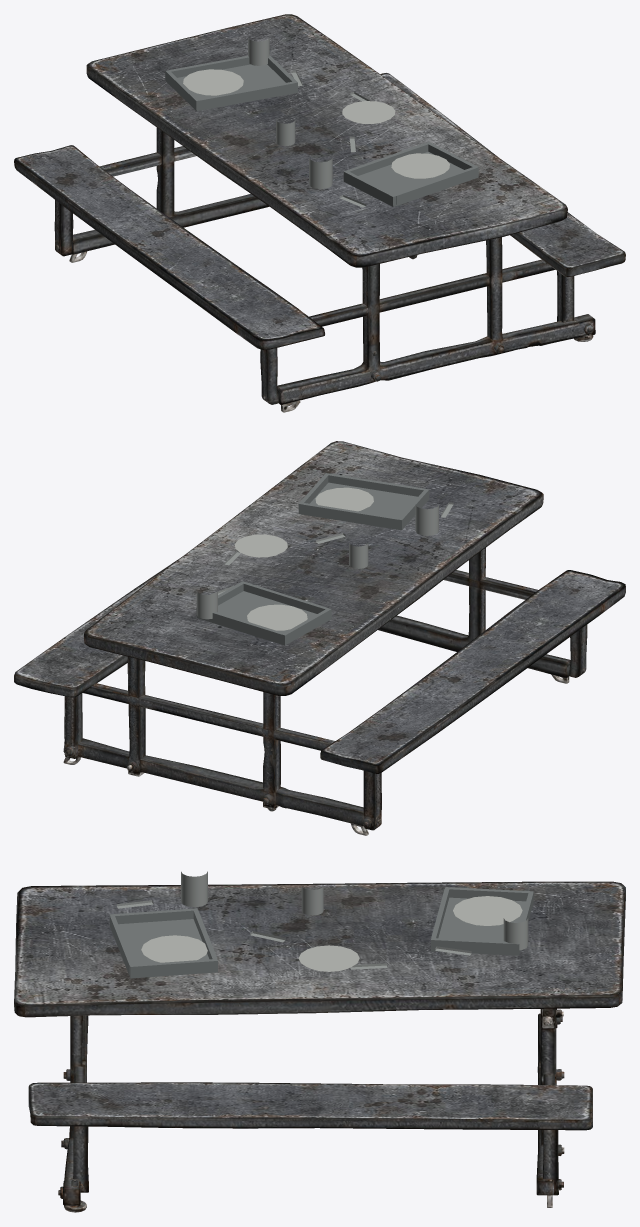
The model's file is Cafeteria Table - Bunker Messy Trays and Cups.glb.
3 views of the same model, one above another, from view 1: azimuth 30°, elevation 25°; view 2: azimuth 150°, elevation 25°; view 3: azimuth 270°, elevation 25° (orthographic). The views are drawn at different scales.
Visible parts, largest first — view 1: tripo_node_c90150de-4281-4c37-b81a-581b04025a6d, Tabletop Trays Plates Cups; view 2: tripo_node_c90150de-4281-4c37-b81a-581b04025a6d, Tabletop Trays Plates Cups; view 3: tripo_node_c90150de-4281-4c37-b81a-581b04025a6d, Tabletop Trays Plates Cups.
Part boxes in pixels (box(x1,y1,x2,y2)): tripo_node_c90150de-4281-4c37-b81a-581b04025a6d: box(14, 14, 625, 412); Tabletop Trays Plates Cups: box(165, 37, 478, 207); tripo_node_c90150de-4281-4c37-b81a-581b04025a6d: box(14, 441, 625, 835); Tabletop Trays Plates Cups: box(196, 473, 453, 645); tripo_node_c90150de-4281-4c37-b81a-581b04025a6d: box(14, 881, 625, 1212); Tabletop Trays Plates Cups: box(109, 871, 533, 978).
Bounding box in the file's own units: 0.8003 × 0.4014 × 0.9995.
Materials: 4 (1 with a texture image).
